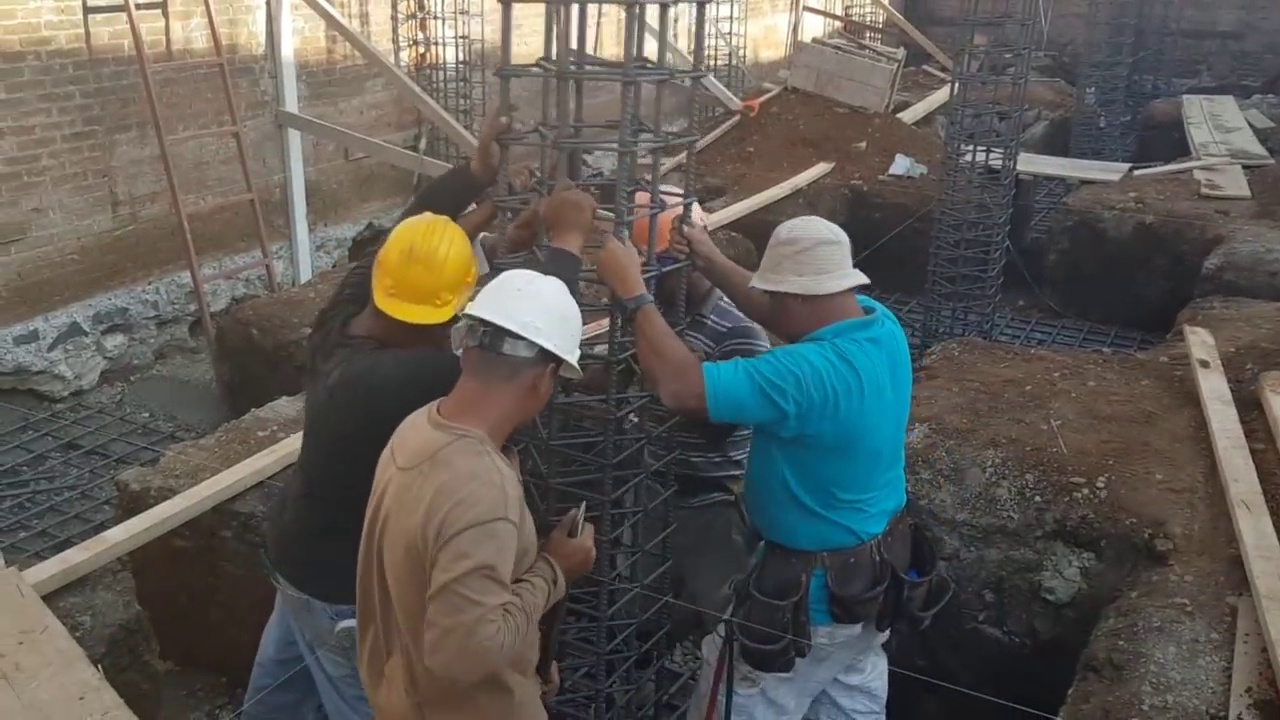helmet: (456, 270, 582, 378), (369, 210, 475, 327), (620, 183, 708, 252)
helmet-off: (752, 222, 883, 345)
helmet-on: (419, 259, 583, 448), (333, 210, 475, 351), (620, 183, 723, 321)
person: (223, 152, 591, 720), (612, 209, 911, 720), (357, 262, 602, 720), (616, 177, 767, 682)
